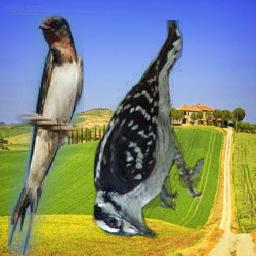Swallow: (8, 15, 84, 256)
Woodpecker: (78, 20, 204, 240)
